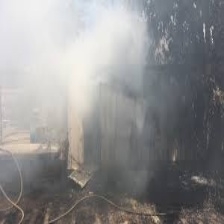smoke: (6, 4, 153, 137)
